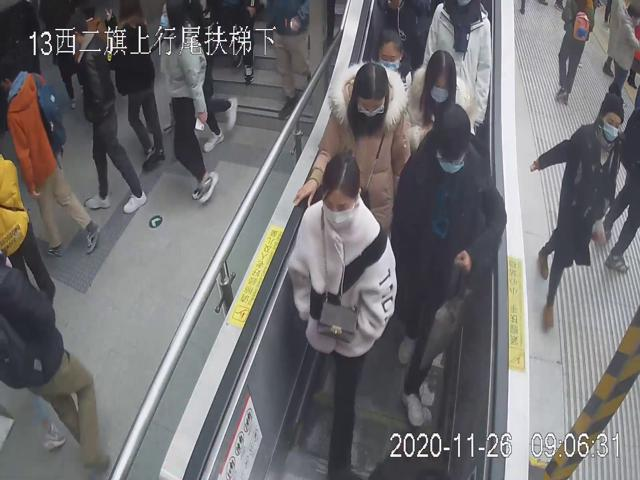person: (390, 101, 508, 432), (282, 150, 398, 480), (529, 88, 624, 334), (290, 56, 411, 236), (0, 50, 101, 260), (402, 50, 473, 159)
